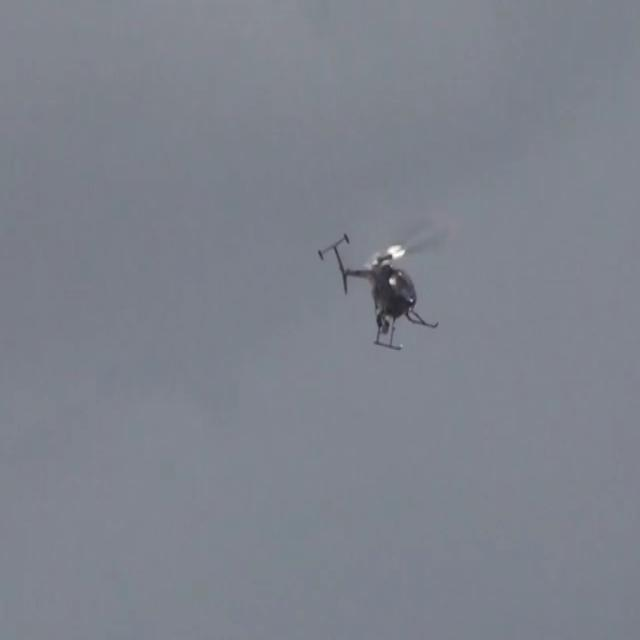Helicopter: (303, 192, 459, 372)
